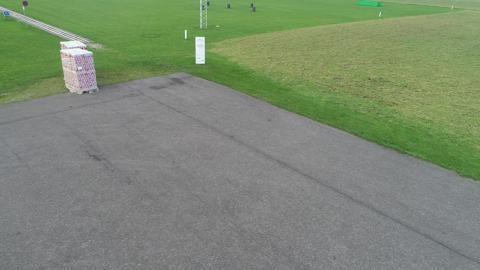RockwoolPallet: (63, 39, 89, 52)
